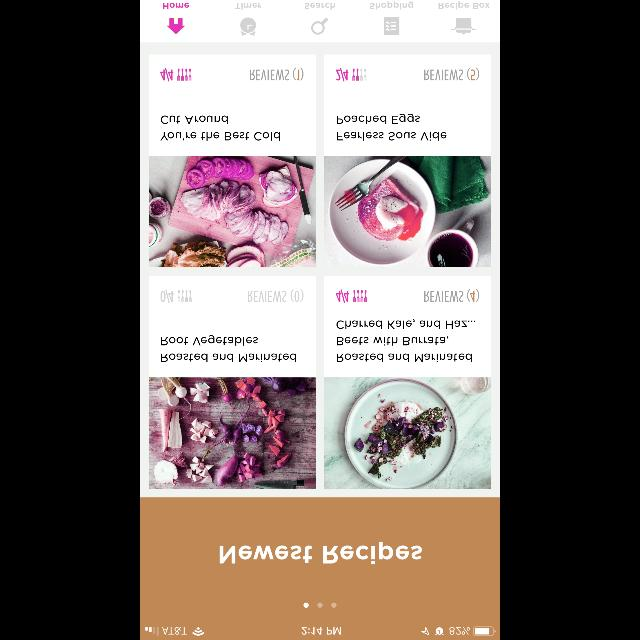icon: (384, 17, 400, 35), (240, 18, 256, 36), (167, 18, 185, 34), (312, 18, 328, 34)
image: (325, 156, 491, 268), (149, 156, 315, 268), (149, 378, 315, 488), (325, 378, 491, 488), (452, 18, 476, 34), (178, 68, 192, 80), (352, 69, 366, 81), (178, 290, 192, 302), (353, 290, 367, 302)
pageindicator: (304, 602, 336, 608)
text: (336, 318, 476, 362), (220, 542, 422, 564), (162, 336, 296, 362), (160, 115, 280, 141), (337, 114, 447, 140), (424, 288, 480, 302), (248, 288, 304, 302), (424, 68, 480, 80), (250, 68, 304, 80), (438, 1, 489, 9), (371, 2, 414, 10), (304, 2, 336, 10), (235, 2, 261, 10), (160, 68, 173, 82), (336, 68, 348, 82), (160, 290, 173, 302), (163, 3, 189, 9), (336, 290, 348, 302)
uppertaskbar: (140, 626, 500, 640)
